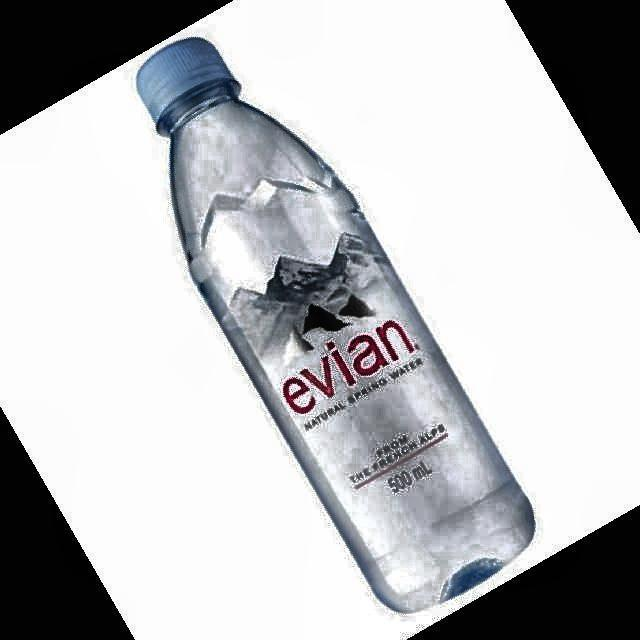plastic: (138, 38, 532, 611)
